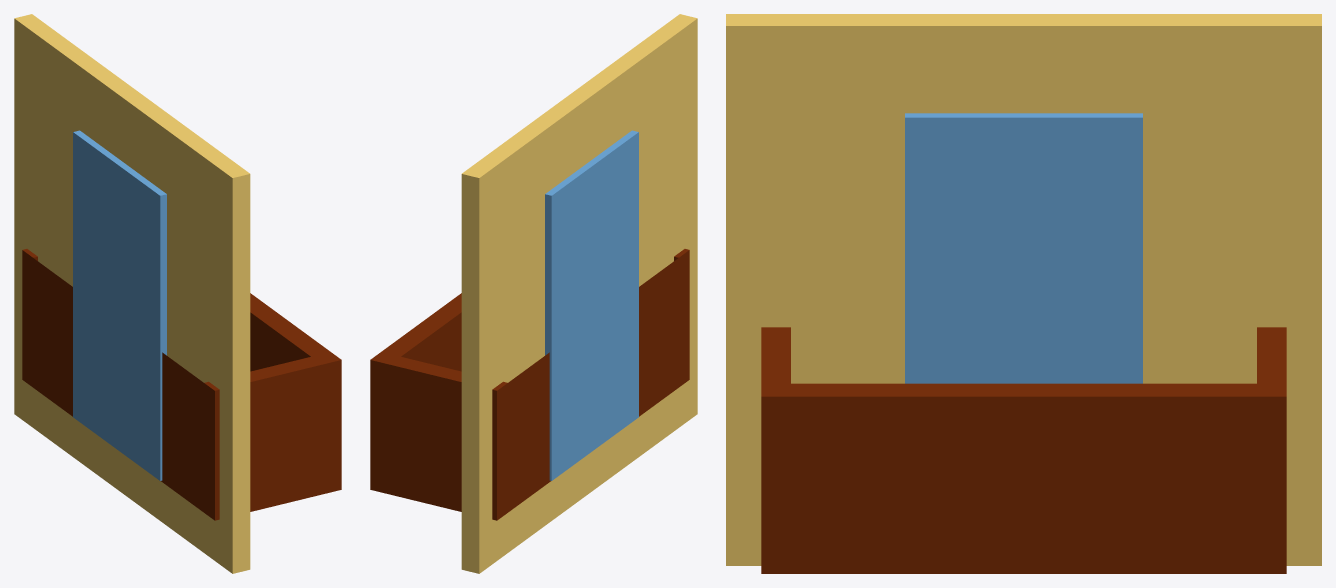
File: balcony 1.fbx
The picture shows the model from 3 angles, left to right: view 1: azimuth 30°, elevation 25°; view 2: azimuth 150°, elevation 25°; view 3: azimuth 270°, elevation 25°; orthographic projection. The views are drawn at different scales.
Visible parts, largest first — view 1: Cube.003, Cube, Cube.002; view 2: Cube.003, Cube, Cube.002; view 3: Cube.003, Cube, Cube.002.
Part boxes in pixels (x1,y1,x2,y2): Cube.003: (14,14,250,573); Cube: (22,249,341,520); Cube.002: (73,130,166,480); Cube.003: (461,14,697,573); Cube: (370,249,689,520); Cube.002: (545,130,638,480); Cube.003: (726,14,1321,565); Cube: (761,327,1286,573); Cube.002: (905,113,1142,383).
Size of the model in its own units: 68.09 by 200 by 200.
